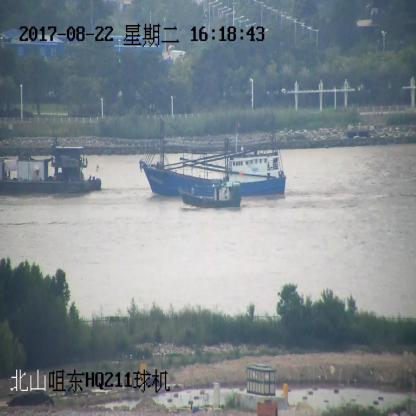Bulk Carrier: (0, 140, 103, 196)
